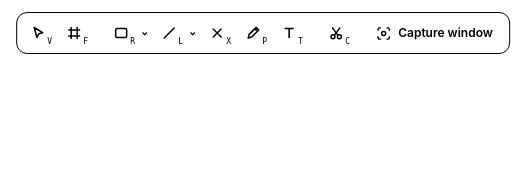
Scenario: Toolbar › opens a flyout to pick another tool of the group
Click the button named "More shapes": (144, 33) [138,17,150,49]
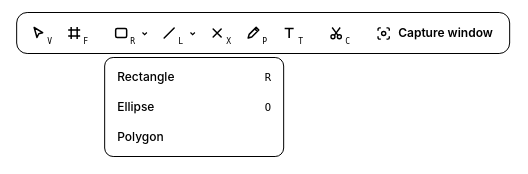
Click the menu item "Polygon": (194, 137) [109,122,279,152]
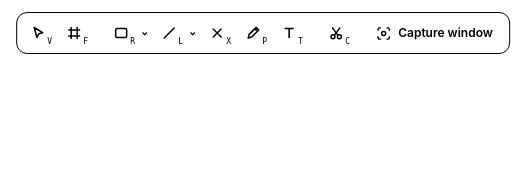
expect the menu is gone: met
